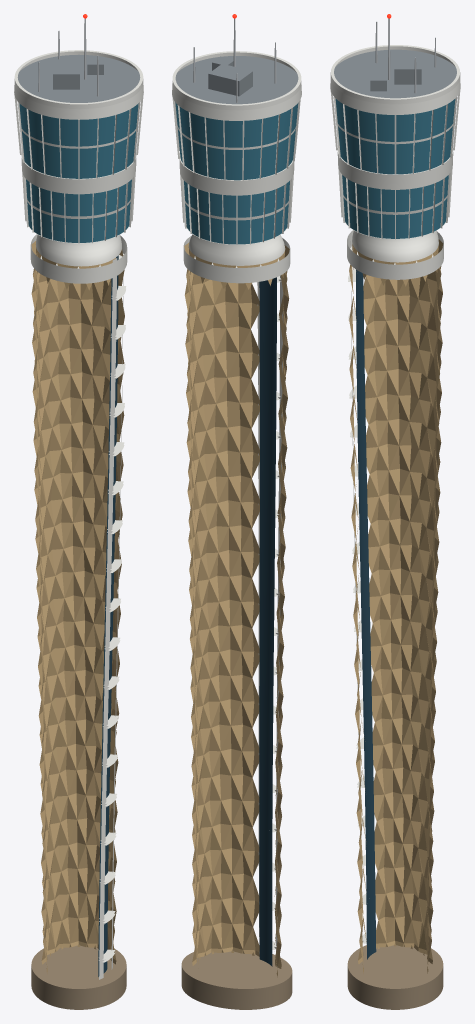
Rendered from delhi_atc_tower.glb.
3 renders of one model, left to right at view 1: azimuth 90°, elevation 25°; view 2: azimuth 150°, elevation 25°; view 3: azimuth 270°, elevation 25°, orthographic.
Visible parts, largest first — view 1: shaft_cladding, vcr_glass, subcab_glass, core_jamb_r, roof_deck, core_glass, plinth_top, core_floor_fins, plinth, neck, cab_floor_band, shaft_collar (+7 smaller); view 2: shaft_cladding, core_glass, vcr_glass, subcab_glass, roof_deck, plinth_top, plinth, neck, cab_floor_band, shaft_collar, roof_fascia, vcr_mullions (+8 smaller); view 3: shaft_cladding, core_glass, vcr_glass, subcab_glass, roof_deck, plinth_top, plinth, neck, cab_floor_band, shaft_collar, vcr_mullions, roof_fascia (+5 smaller).
Part boxes in pixels (box(x1,y1,x2,y2)): shaft_cladding: box(31, 241, 124, 973); vcr_glass: box(19, 103, 138, 178); subcab_glass: box(26, 179, 131, 242); core_jamb_r: box(99, 258, 117, 979); roof_deck: box(17, 54, 140, 102); core_glass: box(98, 255, 118, 976); plinth_top: box(31, 945, 126, 988); core_floor_fins: box(99, 286, 126, 962); plinth: box(31, 966, 126, 1009); neck: box(36, 235, 121, 266); cab_floor_band: box(21, 155, 136, 194); shaft_collar: box(30, 234, 127, 283); shaft_cladding: box(184, 242, 289, 977); core_glass: box(259, 277, 276, 966); vcr_glass: box(175, 102, 298, 180); subcab_glass: box(184, 181, 289, 244); roof_deck: box(175, 56, 298, 104); plinth_top: box(181, 951, 292, 988); plinth: box(181, 966, 292, 1009); neck: box(188, 234, 285, 265); cab_floor_band: box(179, 159, 294, 195); shaft_collar: box(183, 236, 290, 283); roof_fascia: box(172, 83, 301, 120); vcr_mullions: box(172, 98, 300, 180); shaft_cladding: box(349, 239, 443, 973); core_glass: box(356, 269, 376, 959); vcr_glass: box(335, 99, 455, 174); subcab_glass: box(342, 175, 448, 238); roof_deck: box(334, 49, 456, 98); plinth_top: box(347, 945, 443, 988); plinth: box(347, 966, 443, 1009); neck: box(352, 230, 438, 262); cab_floor_band: box(337, 152, 453, 189); shaft_collar: box(347, 230, 443, 279); vcr_mullions: box(330, 91, 460, 174); roof_fascia: box(330, 77, 460, 114).
Bounding box in the file's own units: 12.4 × 102 × 12.4.
